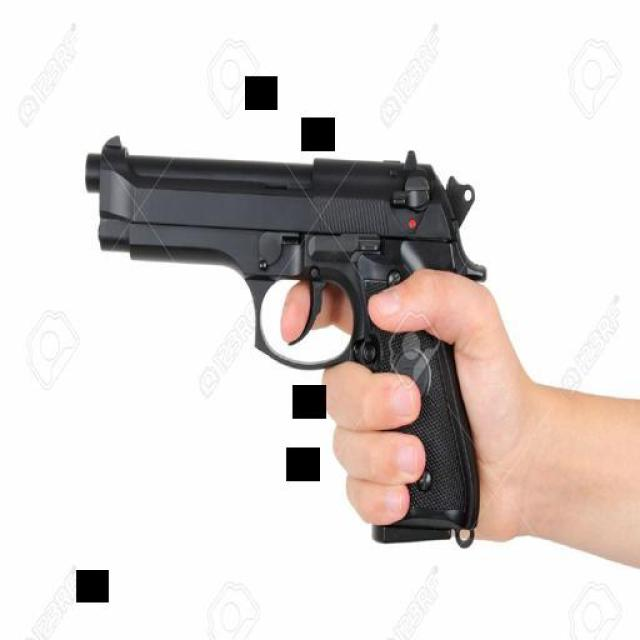gun: (81, 132, 486, 548)
